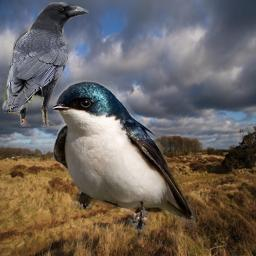Crow: (0, 2, 89, 127)
Swallow: (53, 80, 196, 231)
